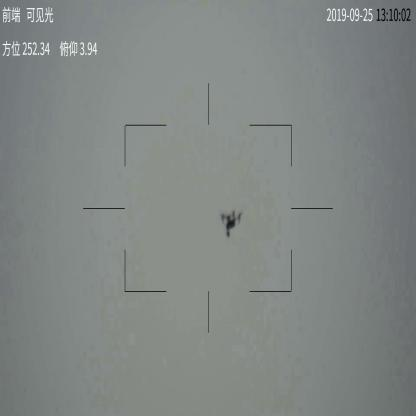uav: (218, 212, 242, 244)
